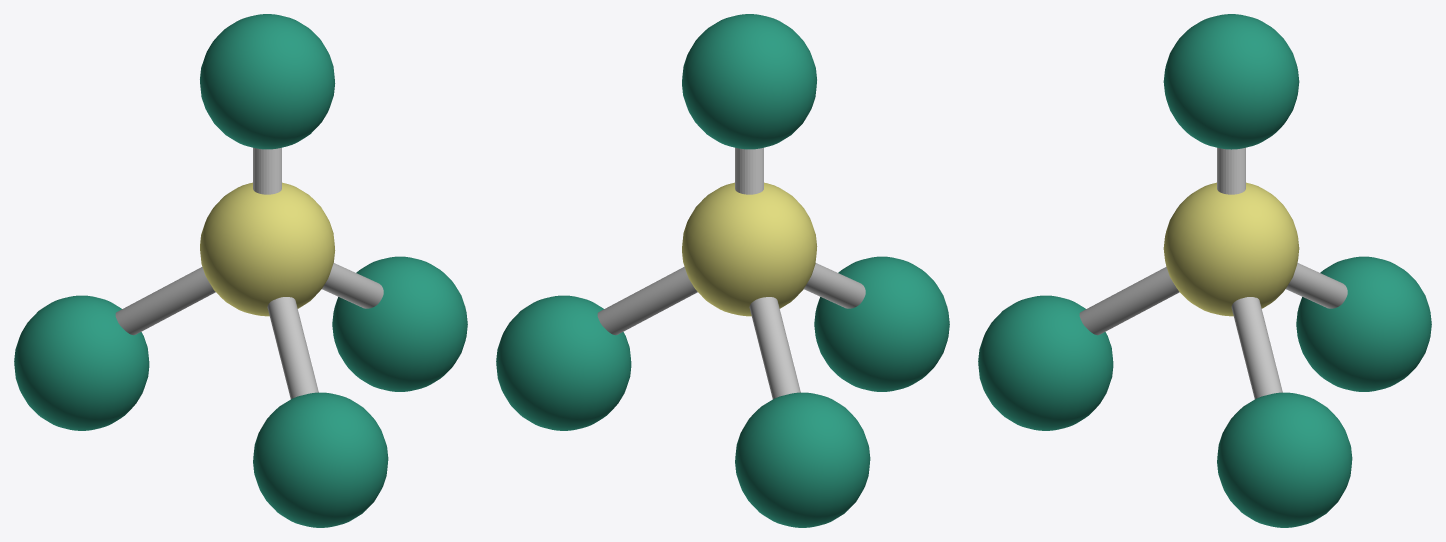
File: metan.gltf
3 views of the same model, side by side, from view 1: azimuth 30°, elevation 25°; view 2: azimuth 150°, elevation 25°; view 3: azimuth 270°, elevation 25° (orthographic).
Visible parts, largest first — view 1: Sphere.003, Sphere, Cylinder.003, Cylinder.002, Cylinder.004, Cylinder; view 2: Sphere.003, Sphere, Cylinder.002, Cylinder.004, Cylinder.003, Cylinder; view 3: Sphere.003, Sphere, Cylinder.004, Cylinder.003, Cylinder.002, Cylinder.
Part boxes in pixels (x1,y1,x2,y2): Sphere.003: [14, 14, 467, 527]; Sphere: [200, 182, 335, 316]; Cylinder.003: [267, 297, 318, 399]; Cylinder.002: [115, 267, 215, 335]; Cylinder.004: [322, 263, 383, 308]; Cylinder: [253, 147, 281, 194]; Sphere.003: [496, 14, 949, 527]; Sphere: [682, 182, 817, 316]; Cylinder.002: [749, 297, 800, 399]; Cylinder.004: [597, 266, 697, 335]; Cylinder.003: [804, 263, 865, 308]; Cylinder: [735, 147, 763, 194]; Sphere.003: [978, 14, 1431, 527]; Sphere: [1163, 182, 1299, 316]; Cylinder.004: [1231, 297, 1282, 399]; Cylinder.003: [1079, 266, 1179, 335]; Cylinder.002: [1286, 263, 1347, 308]; Cylinder: [1217, 147, 1245, 194].
Bounding box in the file's own units: 6.74 × 6.89 × 6.69.
